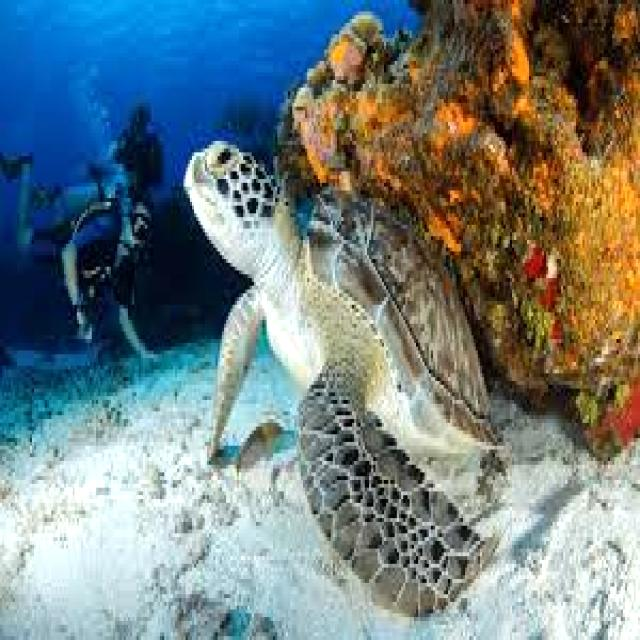Sea turtle: (182, 145, 517, 615)
